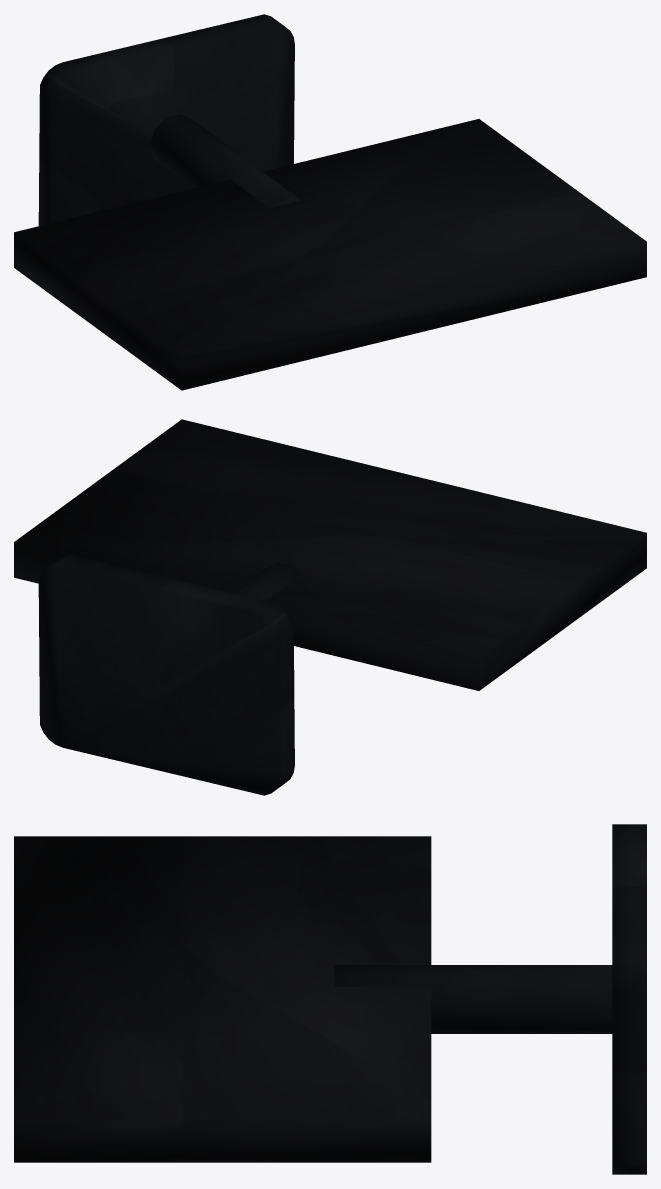
The model's file is MONITOR_SINGLE_001.glb.
3 renders of one model, top to bottom at view 1: azimuth 30°, elevation 25°; view 2: azimuth 150°, elevation 25°; view 3: azimuth 270°, elevation 25°, orthographic. The views are drawn at different scales.
Visible parts, largest first — view 1: monitor_frame_000, base_003, stand_002; view 2: monitor_frame_000, base_003, stand_002; view 3: monitor_frame_000, stand_002, base_003.
Part boxes in pixels (bbox=[...]): monitor_frame_000: bbox=[14, 119, 646, 390]; base_003: bbox=[38, 14, 294, 225]; stand_002: bbox=[149, 114, 300, 207]; monitor_frame_000: bbox=[14, 419, 646, 690]; base_003: bbox=[38, 554, 294, 795]; stand_002: bbox=[233, 562, 301, 600]; monitor_frame_000: bbox=[14, 836, 431, 1162]; stand_002: bbox=[334, 965, 612, 1033]; base_003: bbox=[612, 824, 646, 1174].
Size of the model in its own units: 0.48 by 0.18 by 0.455.
3 materials, 3 textured.
